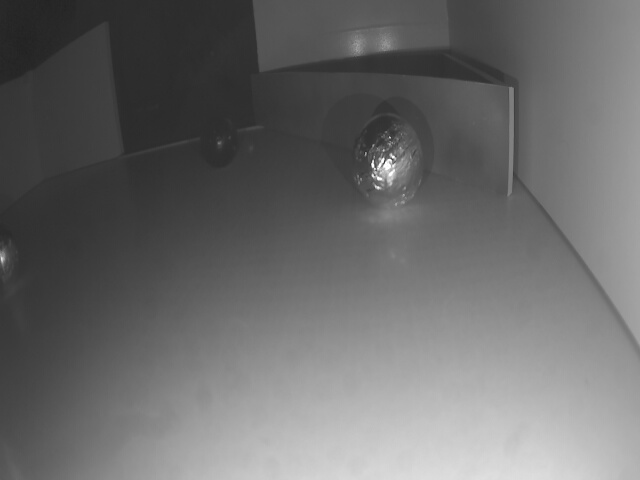Dead: (201, 117, 236, 169)
Live: (346, 115, 424, 210), (0, 226, 18, 290)
Red: (251, 73, 511, 198)
